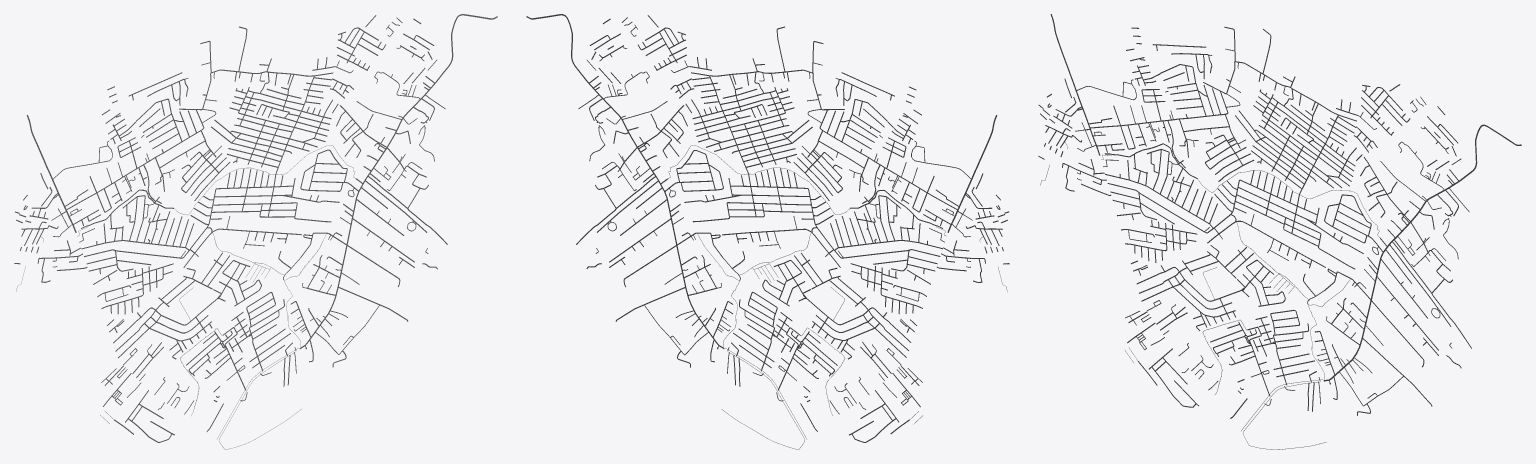
Rendered from roads_3_1.obj.
3 renders of one model, left to right at view 1: azimuth 30°, elevation 25°; view 2: azimuth 150°, elevation 25°; view 3: azimuth 330°, elevation 25°, orthographic.
Size of the model in its own units: 2916 by 2423 by 11.1.
Materials: 3 (3 with a texture image).
